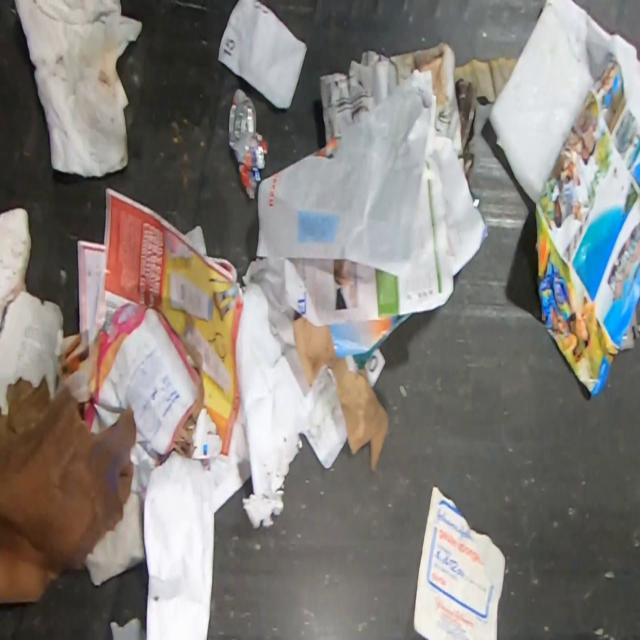cardboard: (0, 375, 52, 474)
metal: (228, 87, 268, 202)
